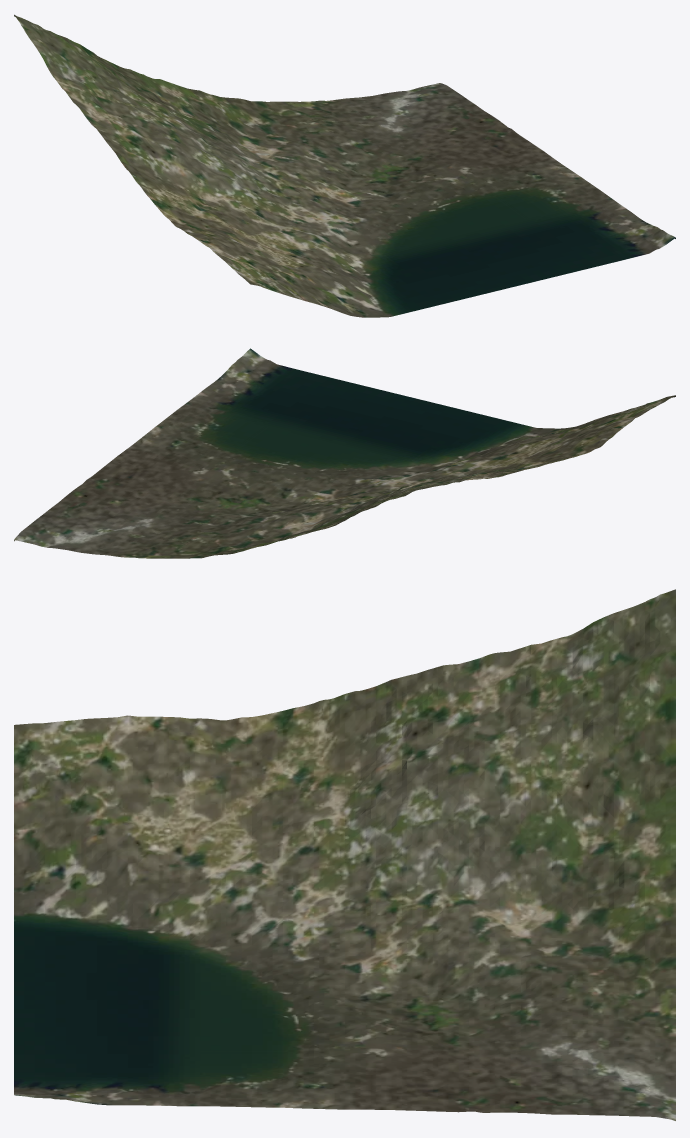
3 views of the same model, one above another, from view 1: azimuth 30°, elevation 25°; view 2: azimuth 150°, elevation 25°; view 3: azimuth 270°, elevation 25° (orthographic). The views are drawn at different scales.
Bounding box in the file's own units: 250 × 97.82 × 241.
Materials: 1 (1 with a texture image).
